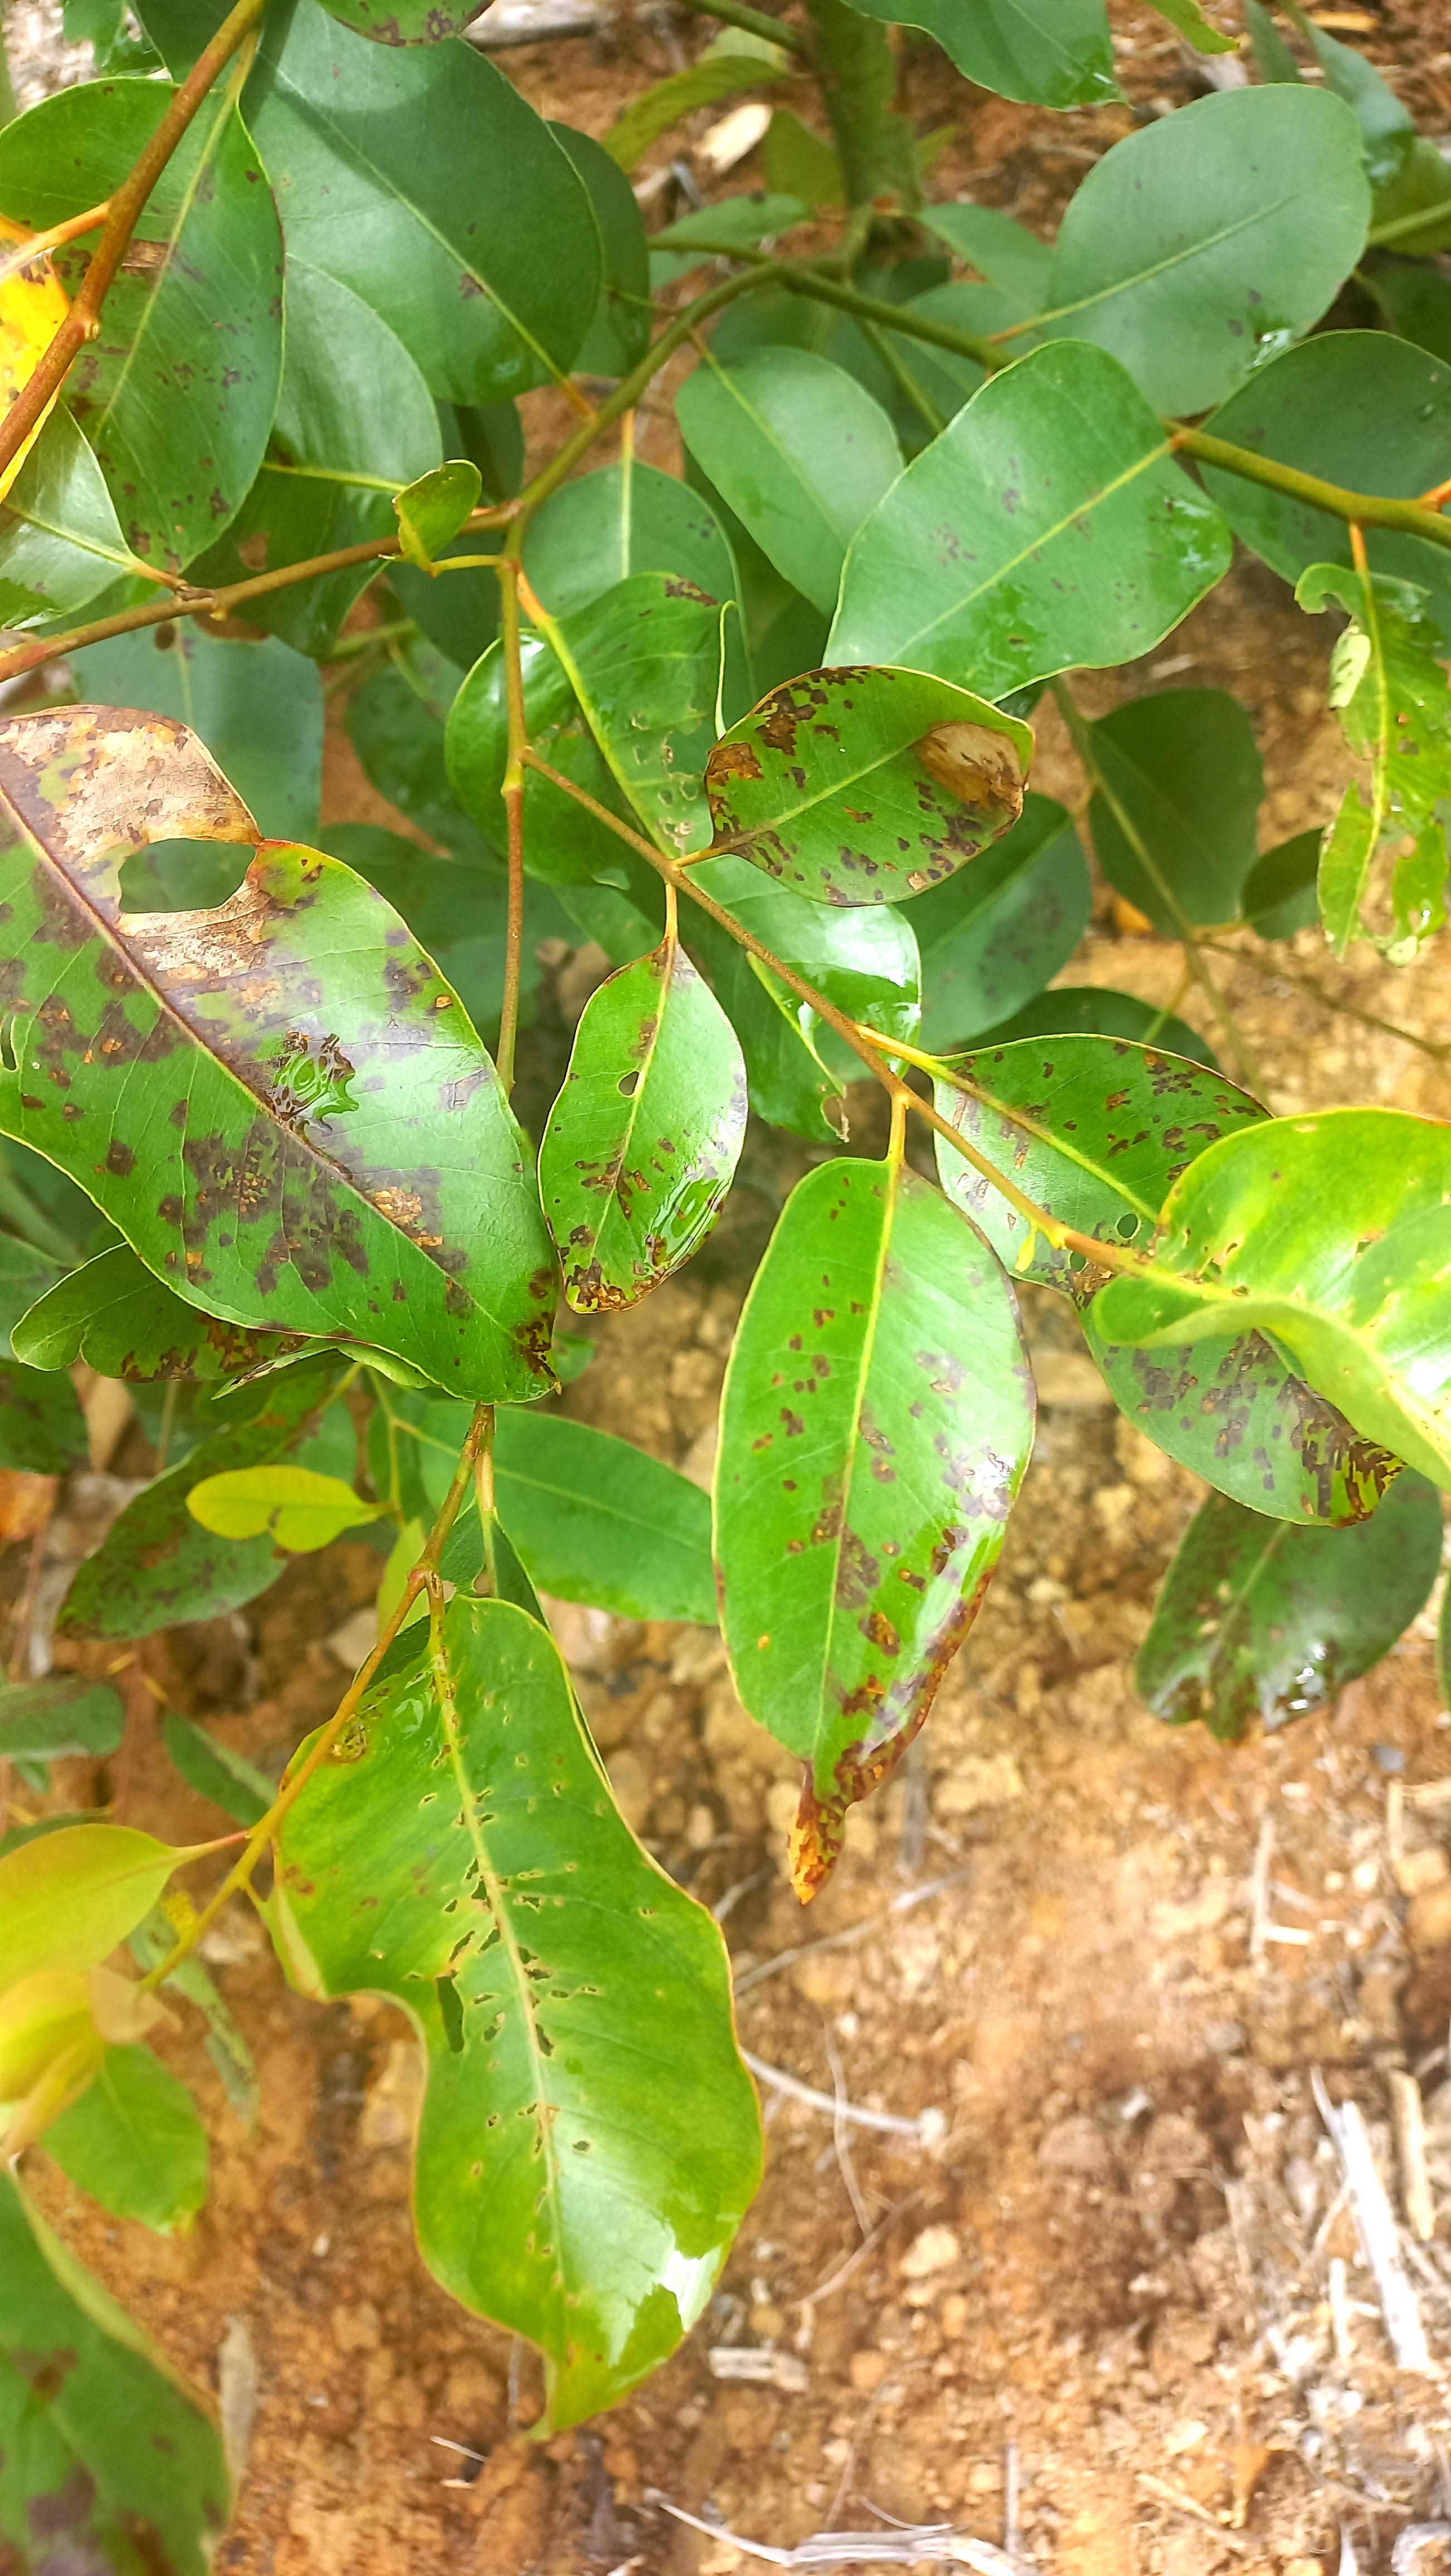Xanthomonas: (269, 1585, 764, 2442), (0, 676, 520, 1392), (664, 663, 1069, 929), (810, 1283, 1037, 1753), (1071, 1265, 1439, 1553), (925, 1031, 1317, 1281), (2, 2146, 225, 2576), (541, 925, 738, 1345), (0, 191, 113, 510)
